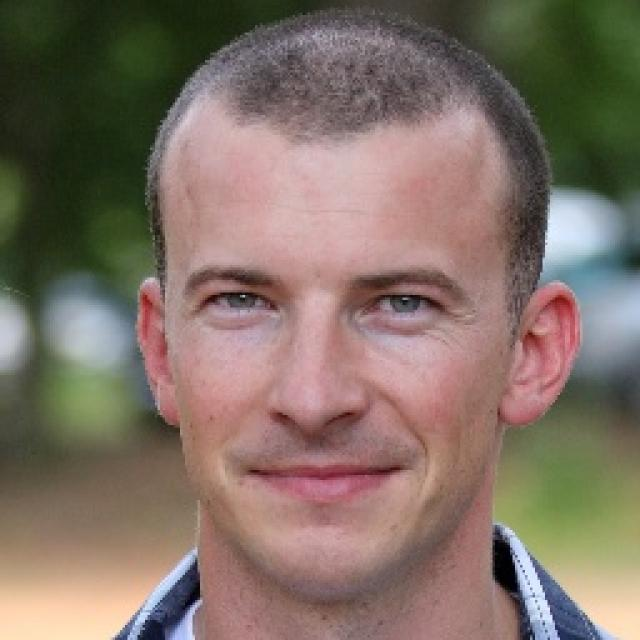earlobe: (497, 378, 539, 427), (150, 374, 180, 428)
eye: (361, 293, 439, 320), (201, 291, 275, 316)
nose: (261, 409, 370, 477)
wholeear: (498, 280, 582, 427), (134, 278, 180, 428)
